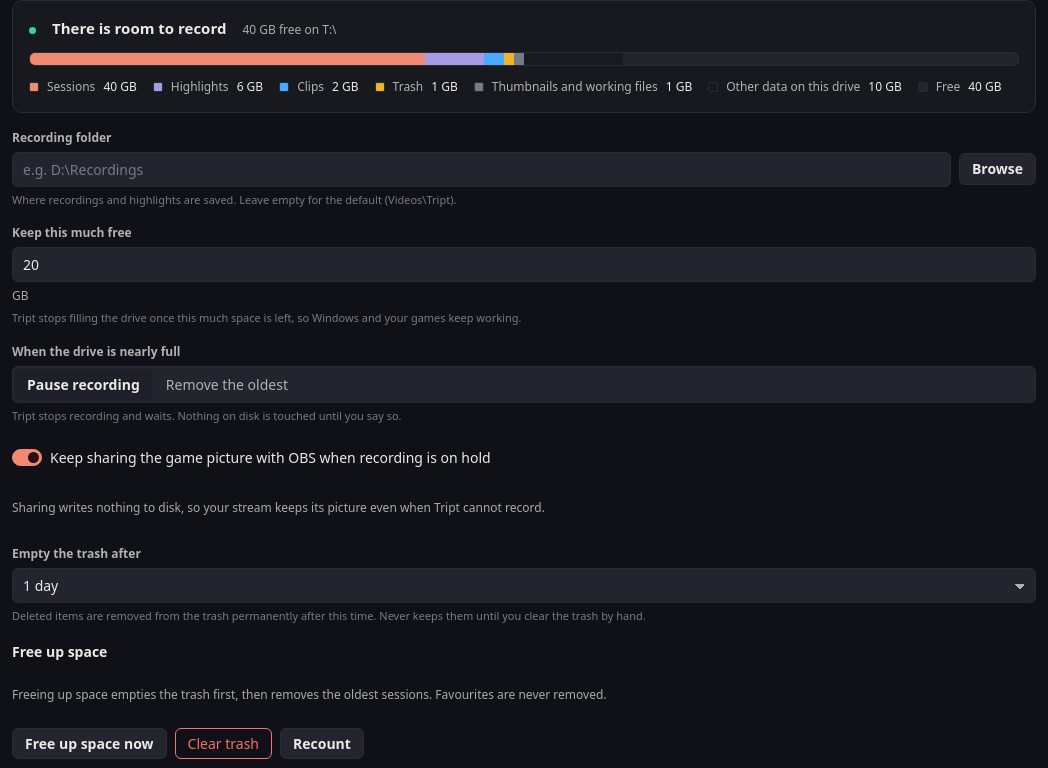
it: StoragePage › refuses a reserved space outside the allowed range
The width and height of the screenshot is (1048, 768).
Replace the text in the field named "Keep this much free in GB" with "0": (524, 264) [12, 247, 1036, 282]
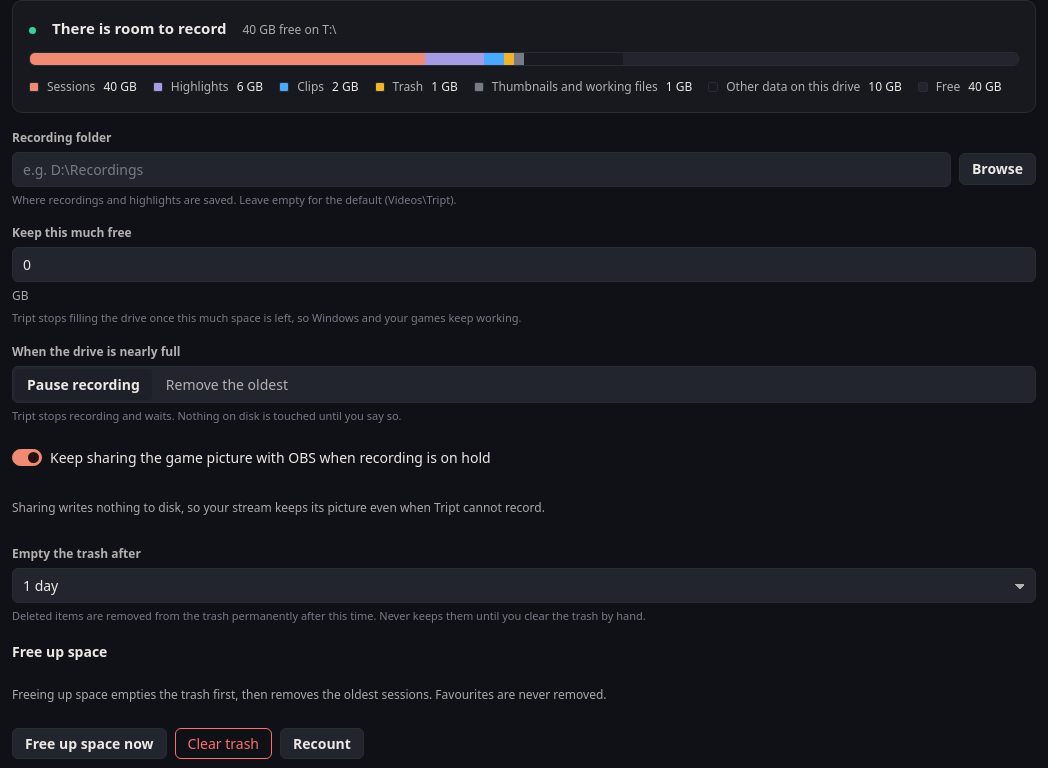
Leave the field named "Keep this much free in GB", box [12, 247, 1036, 282]
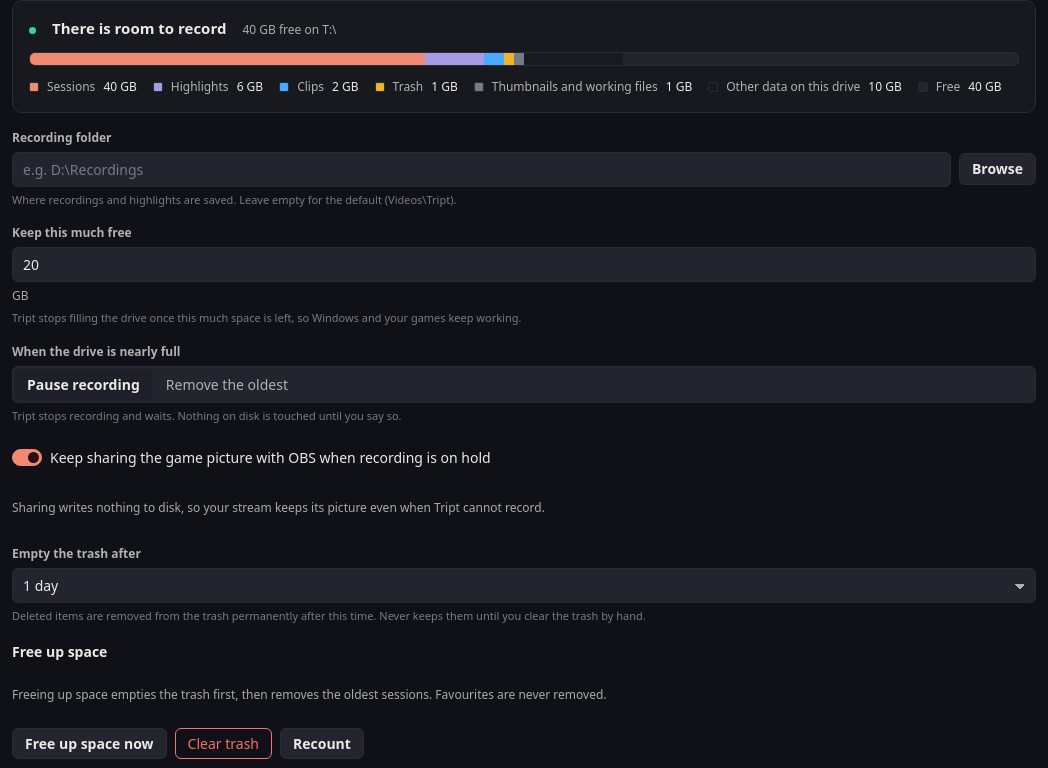
Expected: the field named "Keep this much free in GB" holds "20", [12, 247, 1036, 282]
